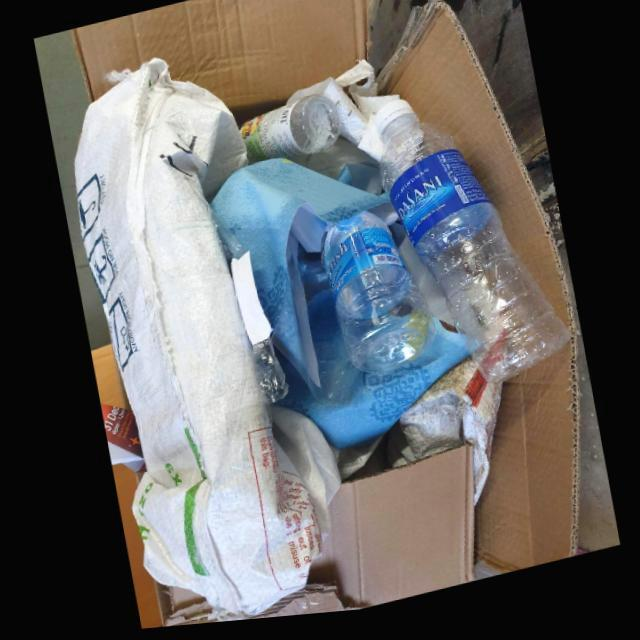plastic_bottle: (374, 104, 569, 393), (320, 218, 435, 381), (239, 100, 341, 170)
